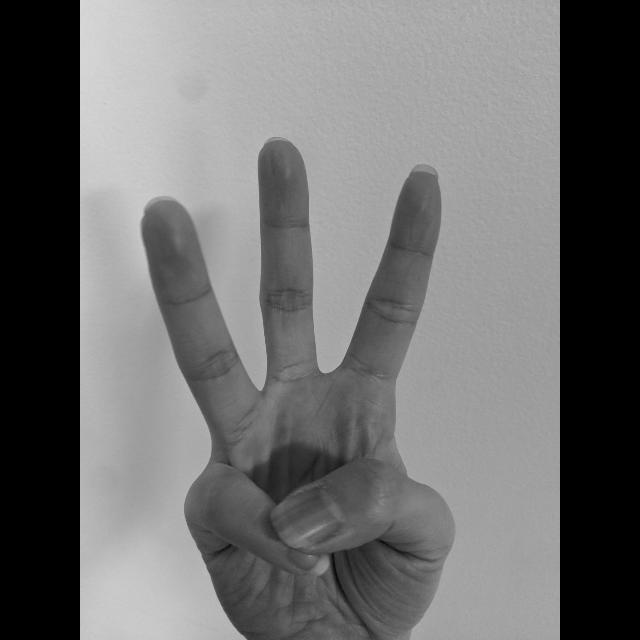W: (136, 133, 458, 639)
